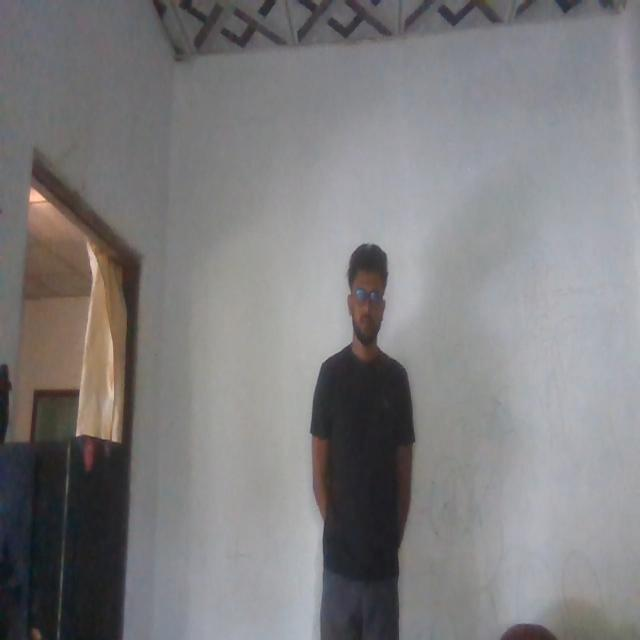Person: (299, 224, 431, 640)
